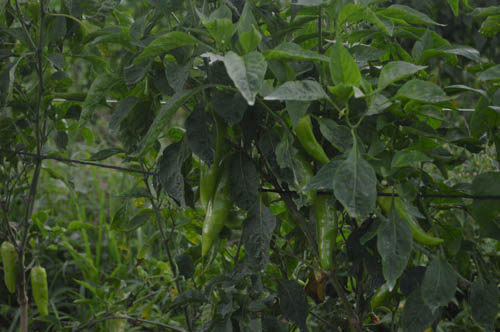ChiliPepper: (382, 185, 440, 245), (198, 168, 234, 261), (310, 190, 339, 272), (293, 117, 330, 164), (28, 271, 52, 314), (199, 134, 212, 203), (3, 243, 16, 294)
